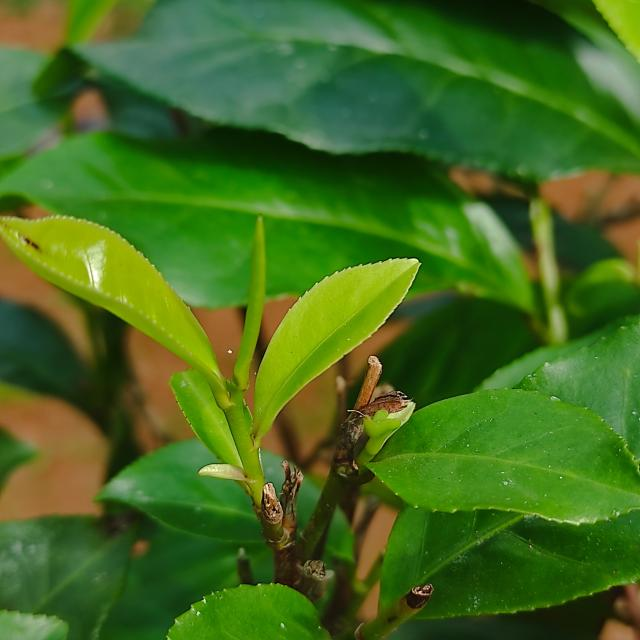unopened_leaf: (223, 211, 284, 397)
